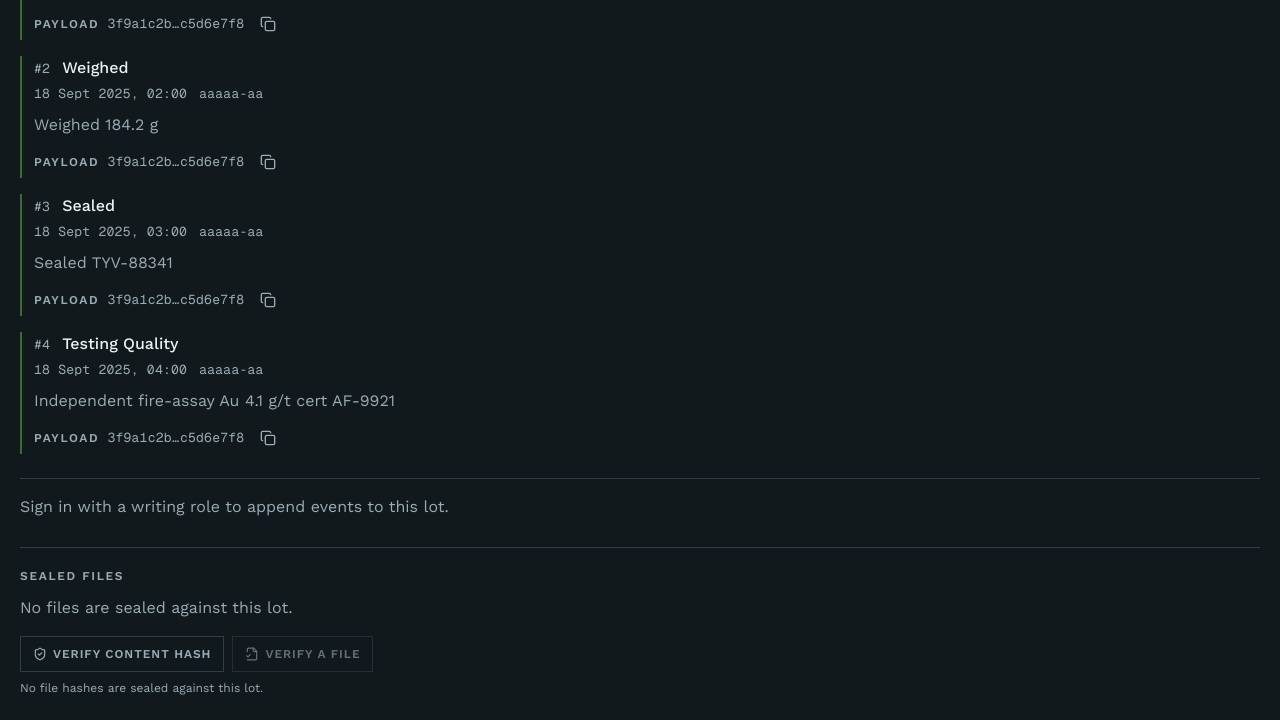
Test: Expanded lot block › reports a matching content hash when the snapshot recomputes to the sealed value
(page scrolled)
Step 1. Click the button with test id "lot.verify_snapshot_button" → point(122, 654), box [20,636,224,672]
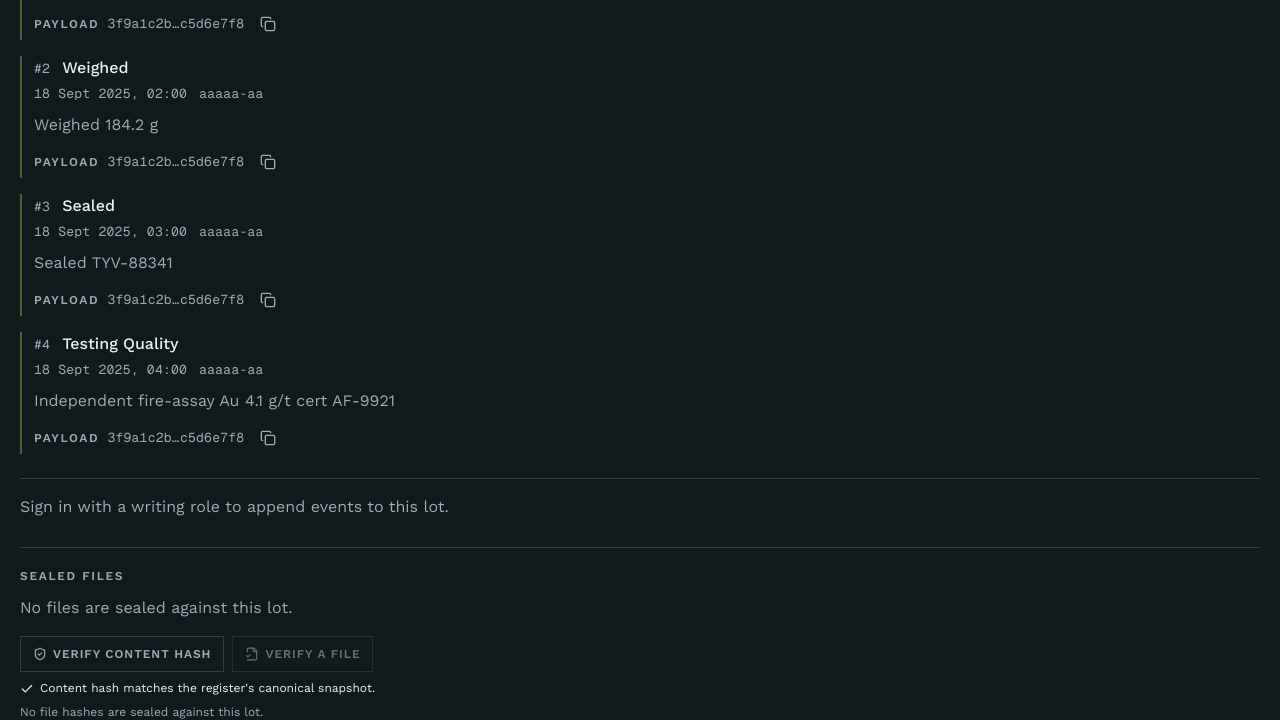
Check: the element with test id "lot.verify_snapshot_state" shows "matches the register's canonical snapshot", box [40,681,375,695]
